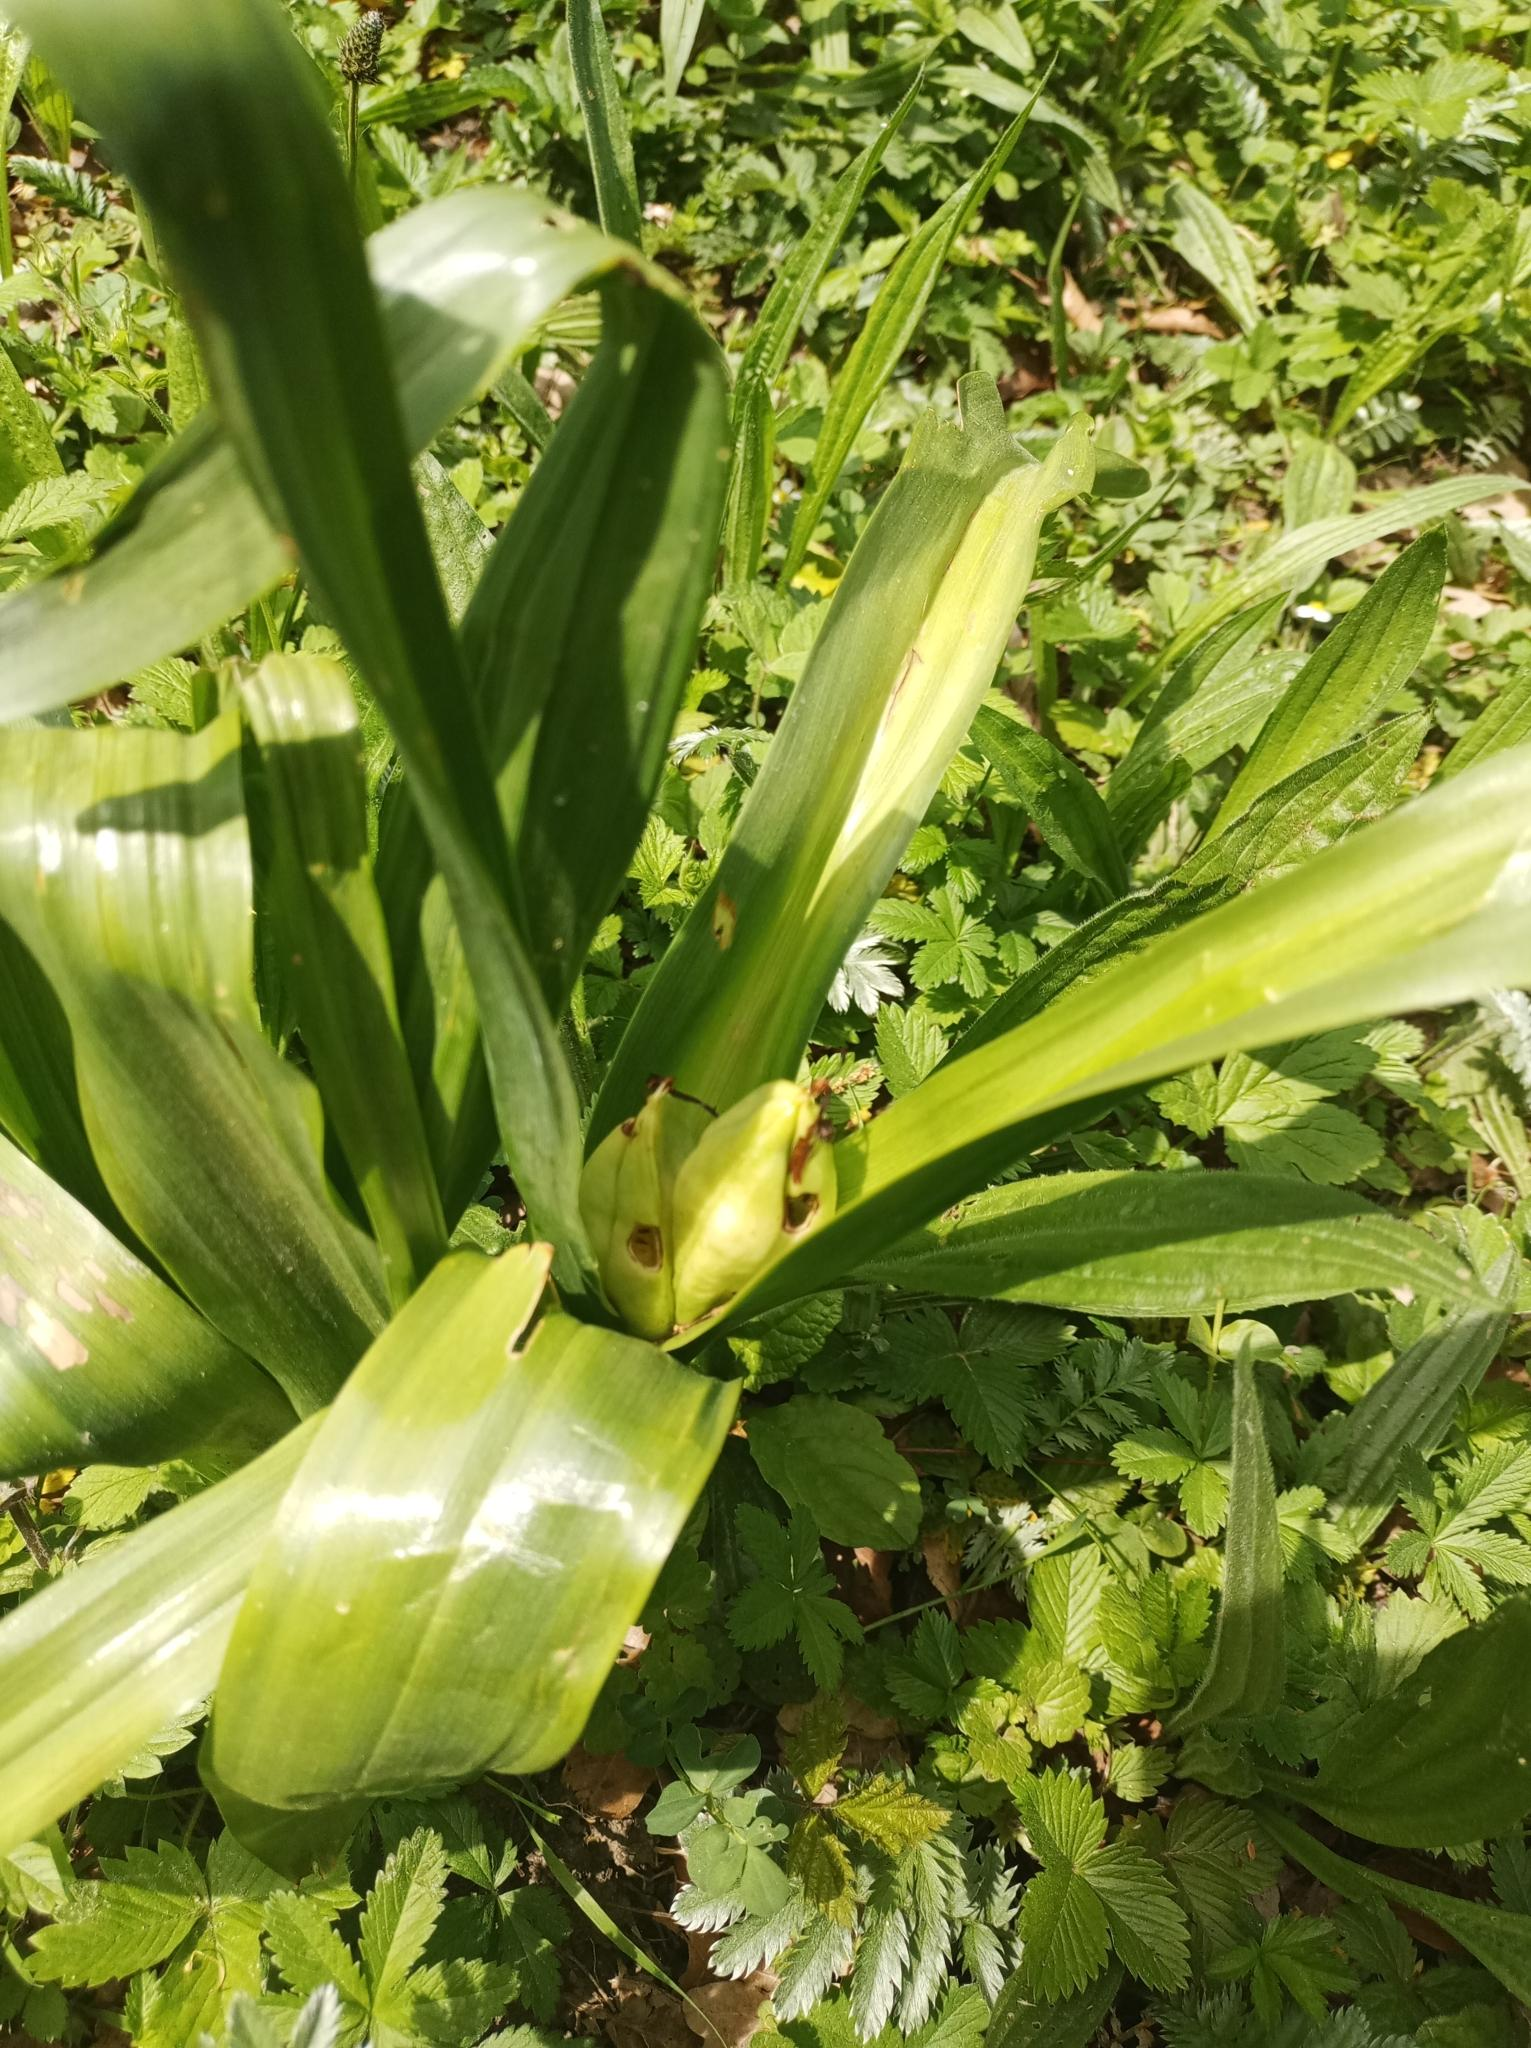Colchicum autumnale L: (55, 220, 1259, 1739)
